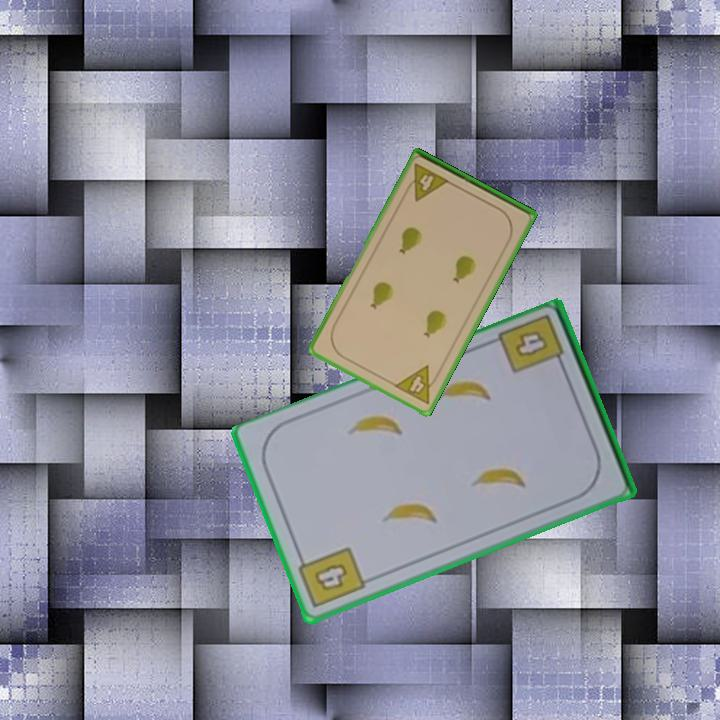4b: (294, 543, 369, 611), (495, 311, 568, 377)
4p: (391, 362, 443, 407), (401, 160, 452, 204)
